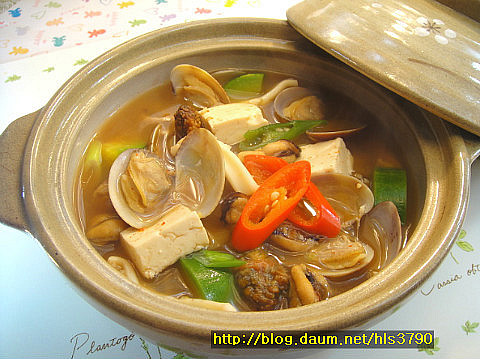doenjangjjigae: (72, 65, 417, 313)
